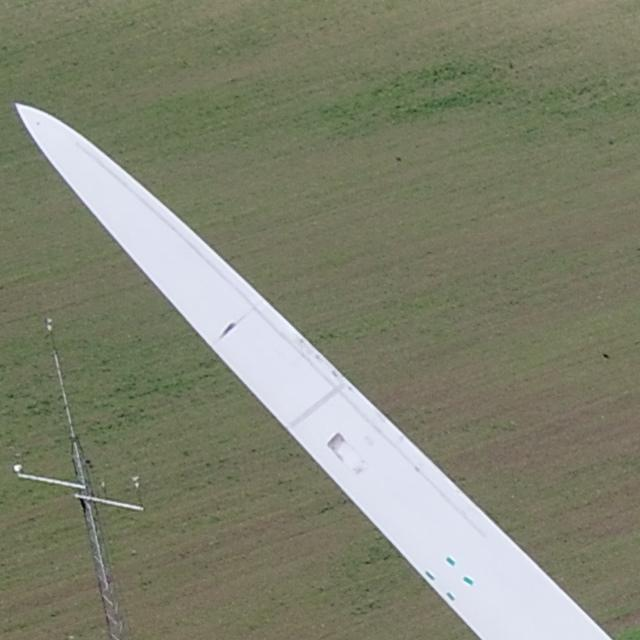damage: (217, 320, 236, 340)
